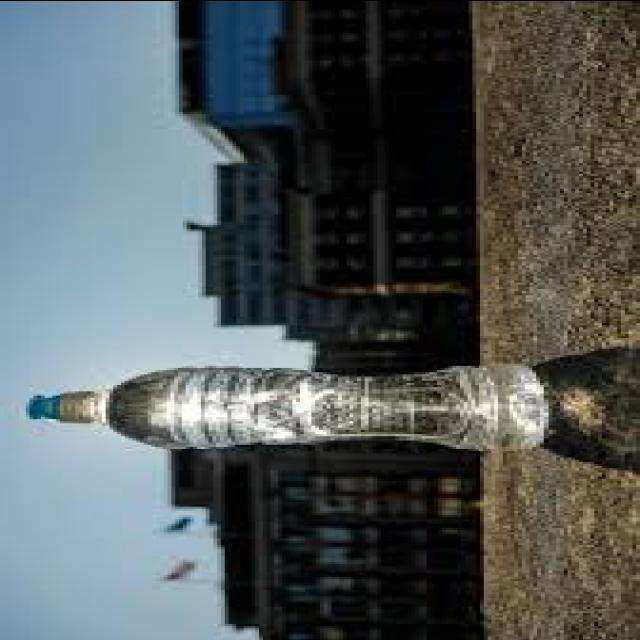bottle: (27, 364, 547, 450)
